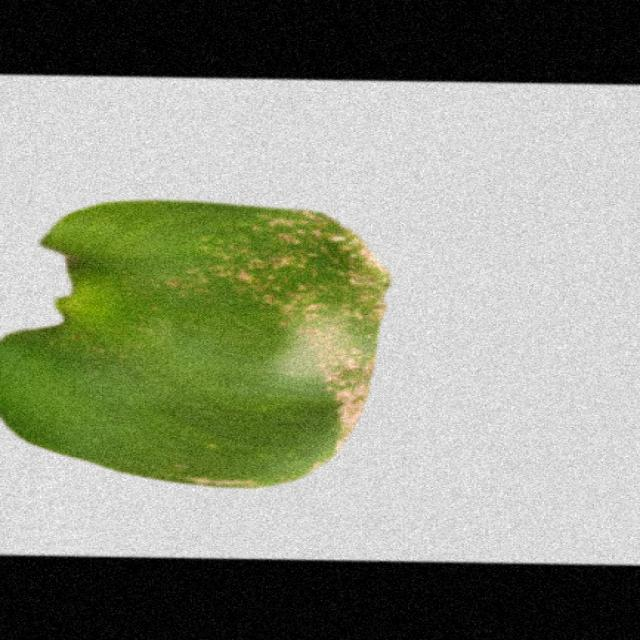daun berpenyakit bercak: (2, 201, 390, 487)
